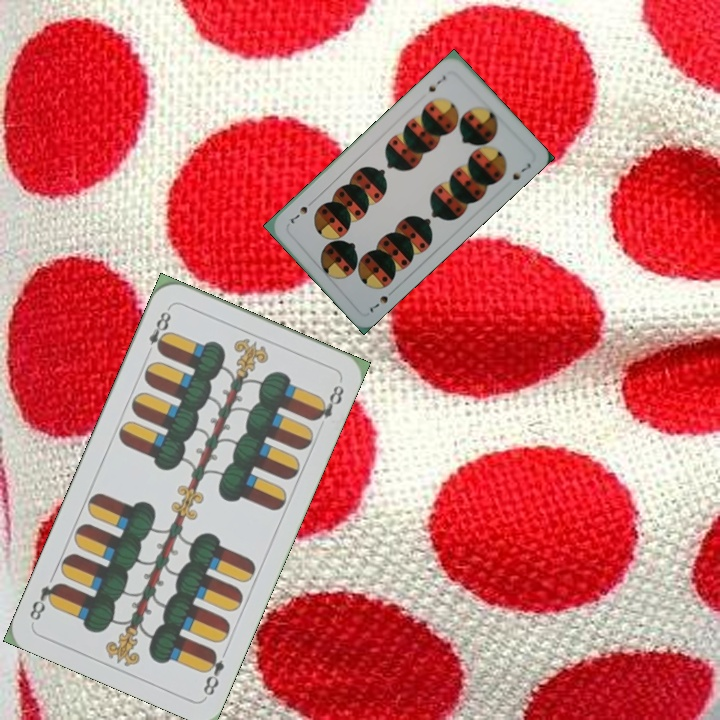E8: (142, 303, 174, 358), (199, 646, 227, 699)
S7: (366, 285, 398, 316), (425, 72, 448, 95)
